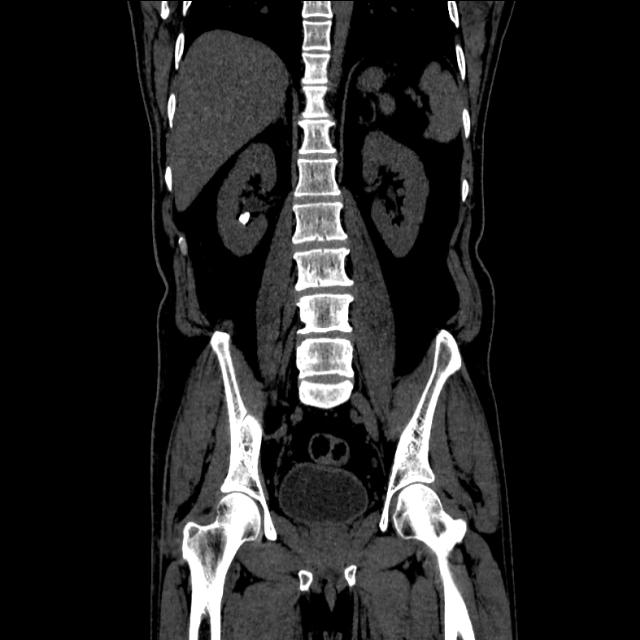kidney: (359, 124, 433, 261), (214, 143, 276, 255)
stone: (238, 208, 254, 225)
